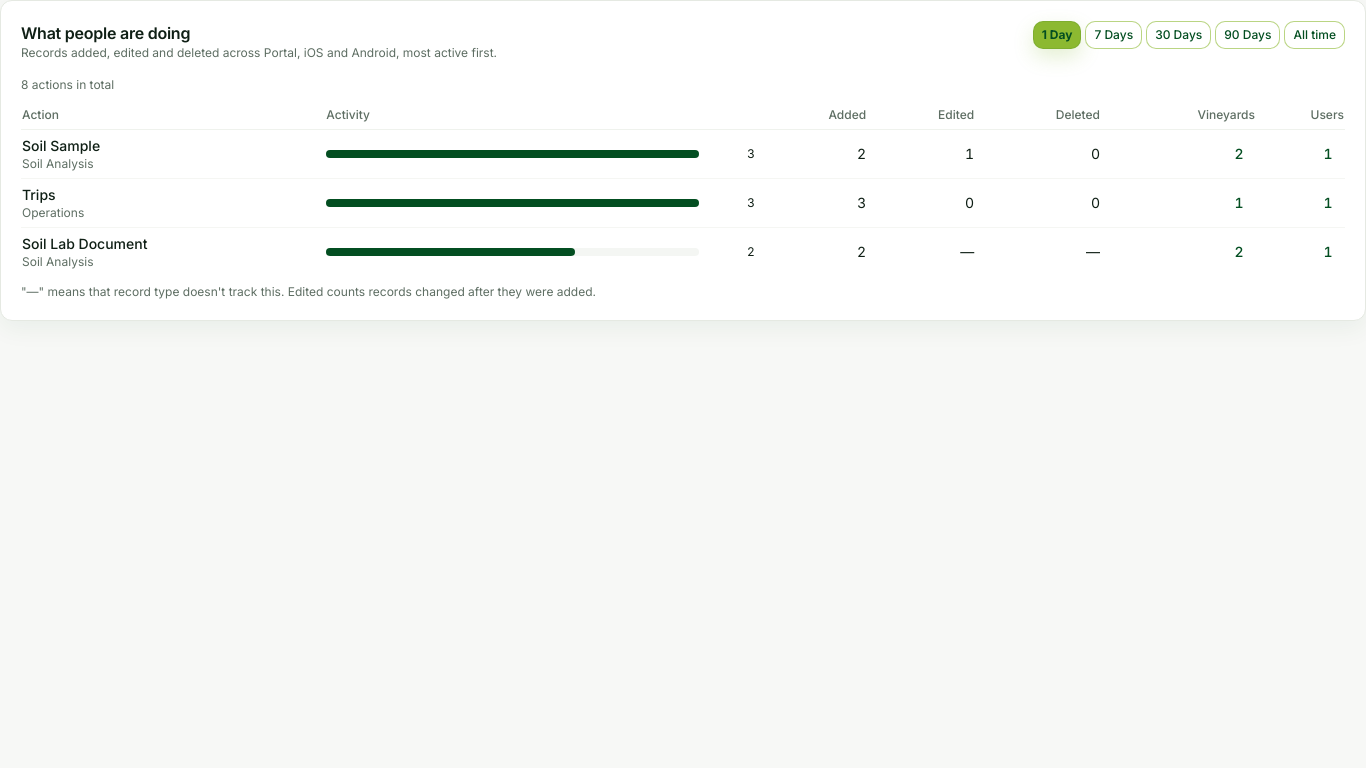
Scenario: What people are doing — soil activity › still opens SQL 257 participant lists for operational rows
expect the text "Soil Sample" is shown: met, box [22, 137, 100, 154]
Click the button named "Trips: 1 vineyards". click: (1239, 203)
box: [1223, 193, 1255, 213]
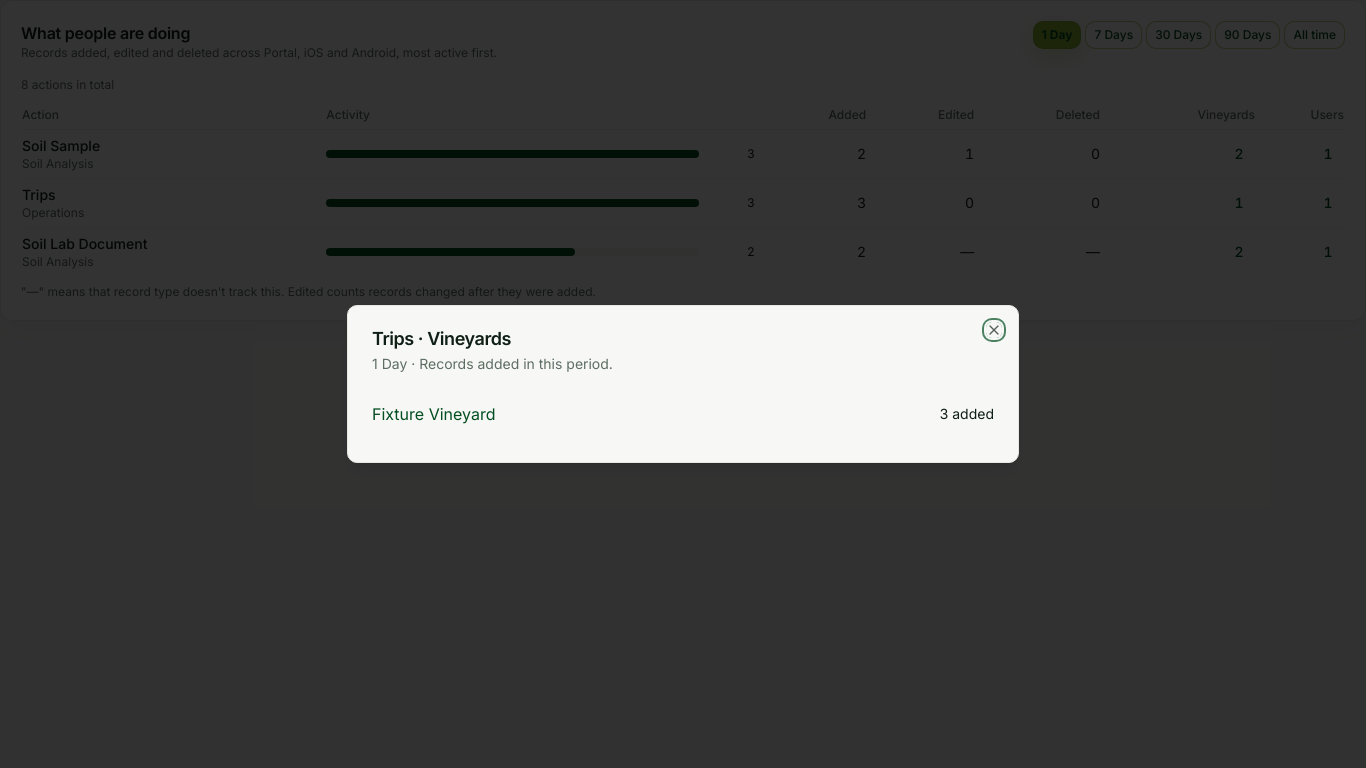
expect the link "Fixture Vineyard" is shown: met, box [372, 404, 496, 424]
